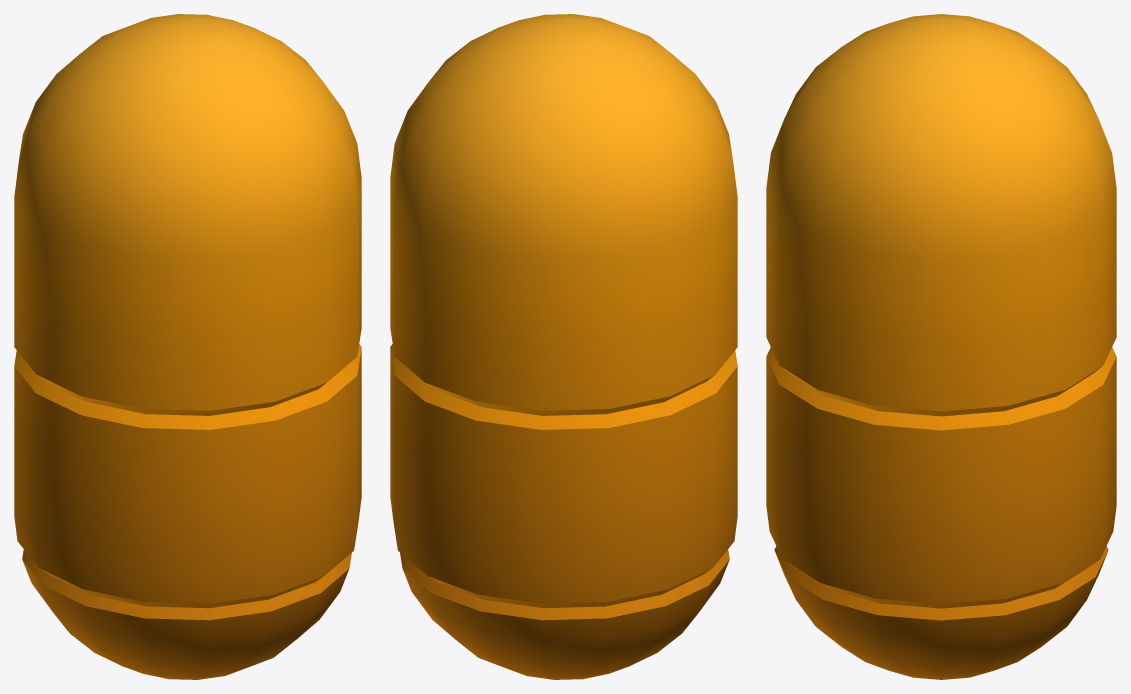
The model's file is Capsule_Body_AC_01.fbx.
3 renders of one model, left to right at view 1: azimuth 30°, elevation 25°; view 2: azimuth 150°, elevation 25°; view 3: azimuth 270°, elevation 25°, orthographic.
Parts seen in each view (by area): view 1: Capsule_Body_AC_01; view 2: Capsule_Body_AC_01; view 3: Capsule_Body_AC_01.
Boxes of the visible parts, left/top/right/bottom form: Capsule_Body_AC_01: left=14, top=14, right=361, bottom=679; Capsule_Body_AC_01: left=390, top=14, right=737, bottom=679; Capsule_Body_AC_01: left=766, top=14, right=1116, bottom=679.
Bounding box in the file's own units: 100 × 200 × 100.
